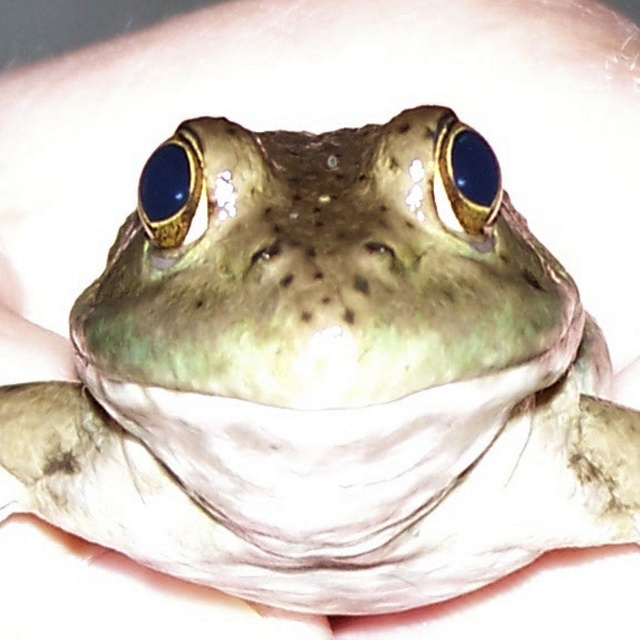Frog: (0, 102, 639, 619)
